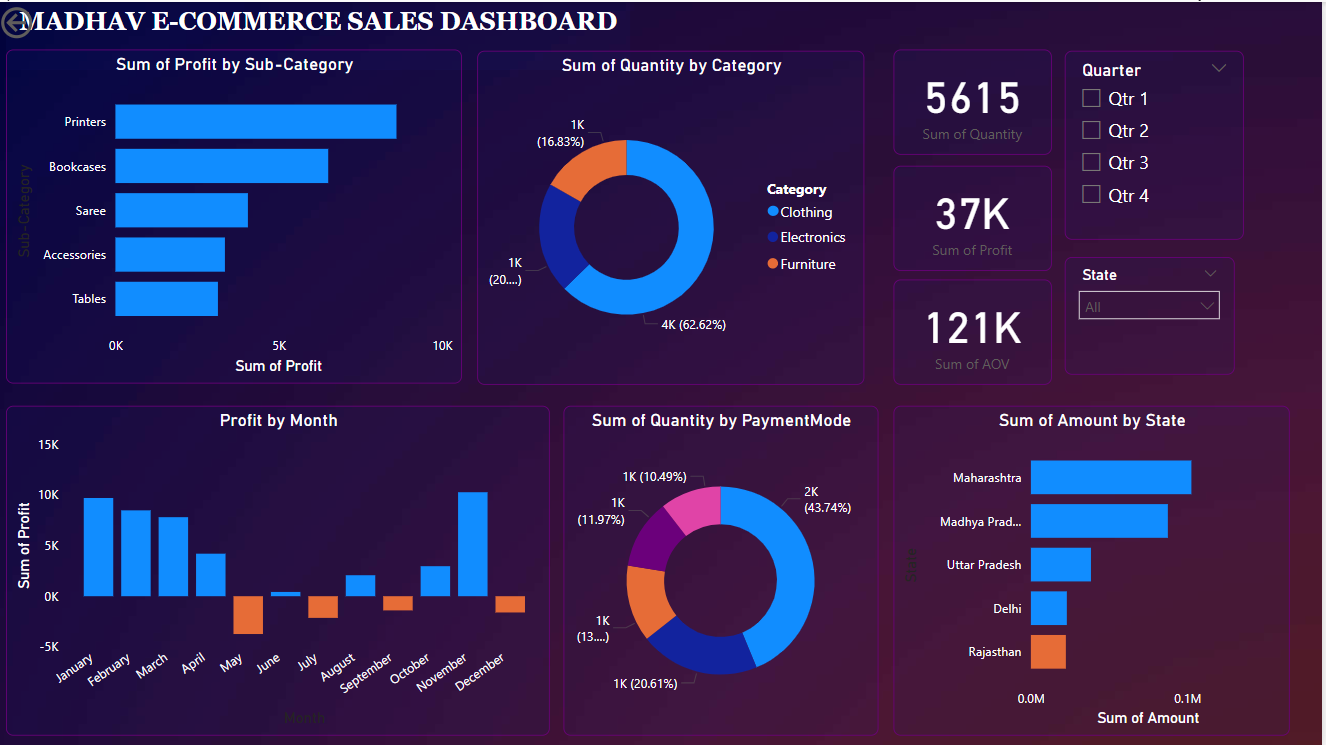

Layout of this report page (visuals, bound fields, positions):
{"tool":"powerbi","page":{"name":"Page 1","canvas":[1280,720],"ordinal":0},"visuals":[{"type":"textbox","box":[9.6,0,602.4,65.9],"z":0},{"type":"columnChart","title":"Profit by Month","fields":{"Y":["Sum(Details.Profit)"],"Category":["Orders.Order Date.Variation.Date Hierarchy.Month"]},"box":[10,390,525,318.8],"z":1000},{"type":"barChart","fields":{"Category":["Details.Sub-Category"],"Y":["Sum(Details.Profit)"]},"box":[10,46.2,440,322.5],"z":2000},{"type":"donutChart","fields":{"Category":["Details.Category"],"Y":["Sum(Details.Quantity)"]},"box":[465,47.5,373.8,322.5],"z":3000},{"type":"donutChart","fields":{"Y":["Sum(Details.Quantity)"],"Category":["Details.PaymentMode"]},"box":[547.5,390,303.8,318.8],"z":4000},{"type":"card","fields":{"Values":["Sum(Details.Quantity)"]},"box":[866.2,46.2,152.5,101.2],"z":5000},{"type":"card","fields":{"Values":["Sum(Details.Profit)"]},"box":[866.2,157.5,152.5,101.2],"z":6000},{"type":"card","fields":{"Values":["Sum(Details.AOV)"]},"box":[866.2,267.5,152.5,101.2],"z":7000},{"type":"barChart","fields":{"Category":["Orders.State"],"Y":["Sum(Details.Amount)"]},"box":[866.2,390,382.5,318.8],"z":8000},{"type":"slicer","fields":{"Values":["Orders.Order Date.Variation.Date Hierarchy.Quarter"]},"box":[1031.2,47.5,172.5,182.5],"z":9000},{"type":"actionButton","box":[0,0,100,40],"z":10000},{"type":"slicer","fields":{"Values":["Orders.State"]},"box":[1031.2,246.2,163.8,113.8],"z":11000}]}

Visuals, with their boxes in screenshot pixels (x1, y1, x2, y2), scaled from the page's 1280x720 canvas onto the 1326x745 screenshot:
textbox: 10/0/634/68
"Profit by Month" columnChart: 10/404/554/733
barChart - Details.Sub-Category x Sum(Details.Profit): 10/48/466/382
donutChart - Details.Category x Sum(Details.Quantity): 482/49/869/383
donutChart - Sum(Details.Quantity) x Details.PaymentMode: 567/404/882/733
card - Sum(Details.Quantity): 897/48/1055/153
card - Sum(Details.Profit): 897/163/1055/268
card - Sum(Details.AOV): 897/277/1055/382
barChart - Orders.State x Sum(Details.Amount): 897/404/1294/733
slicer - Orders.Order Date.Variation.Date Hierarchy.Quarter: 1068/49/1247/238
actionButton: 0/0/104/41
slicer - Orders.State: 1068/255/1238/373
